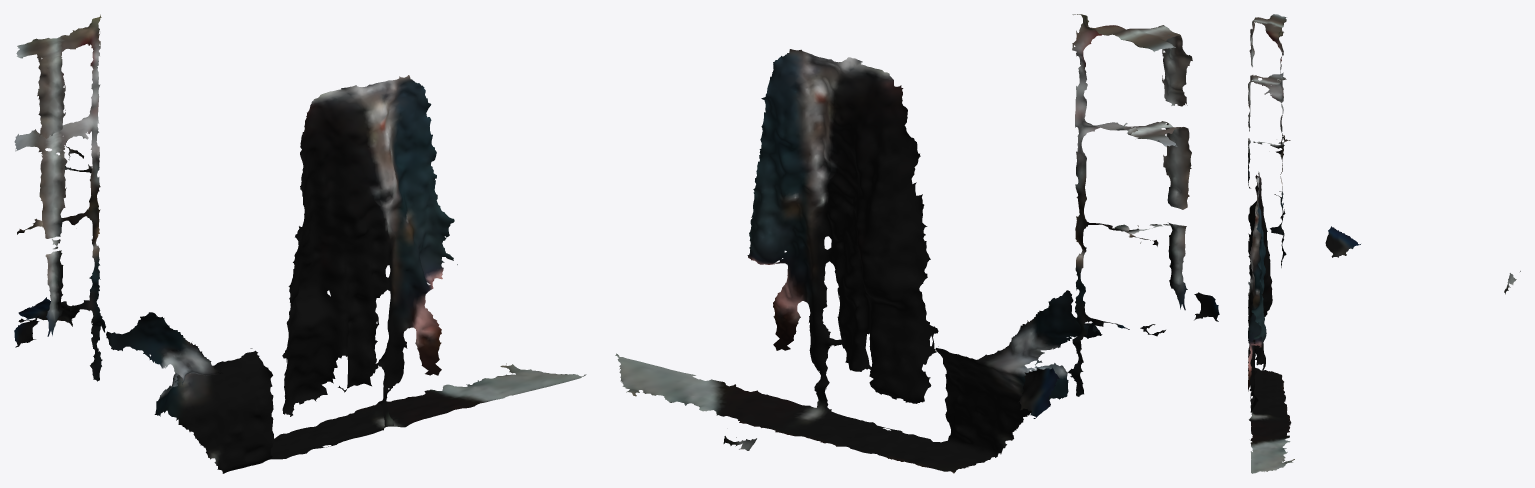
The model's file is color_model_f010_20251226_161547.obj.
3 views of the same model, side by side, from view 1: azimuth 30°, elevation 25°; view 2: azimuth 150°, elevation 25°; view 3: azimuth 270°, elevation 25° (orthographic). The views are drawn at different scales.
Bounding box in the file's own units: 2.12 × 1.66 × 1.35.
